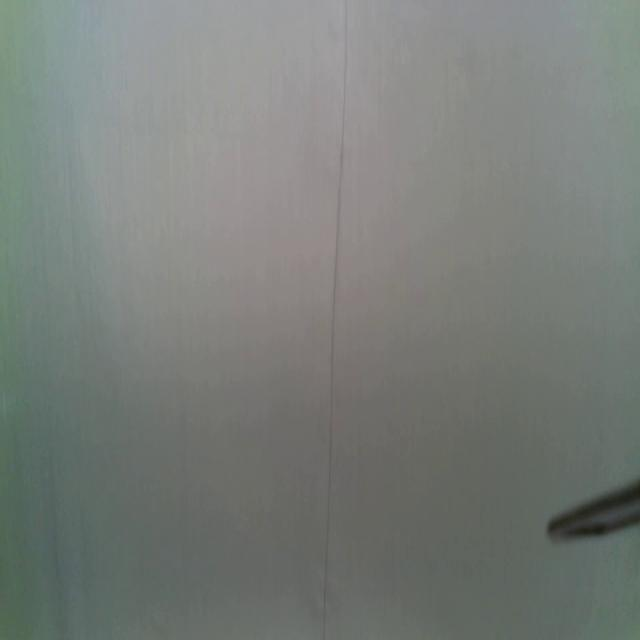crease: (320, 1, 349, 640)
